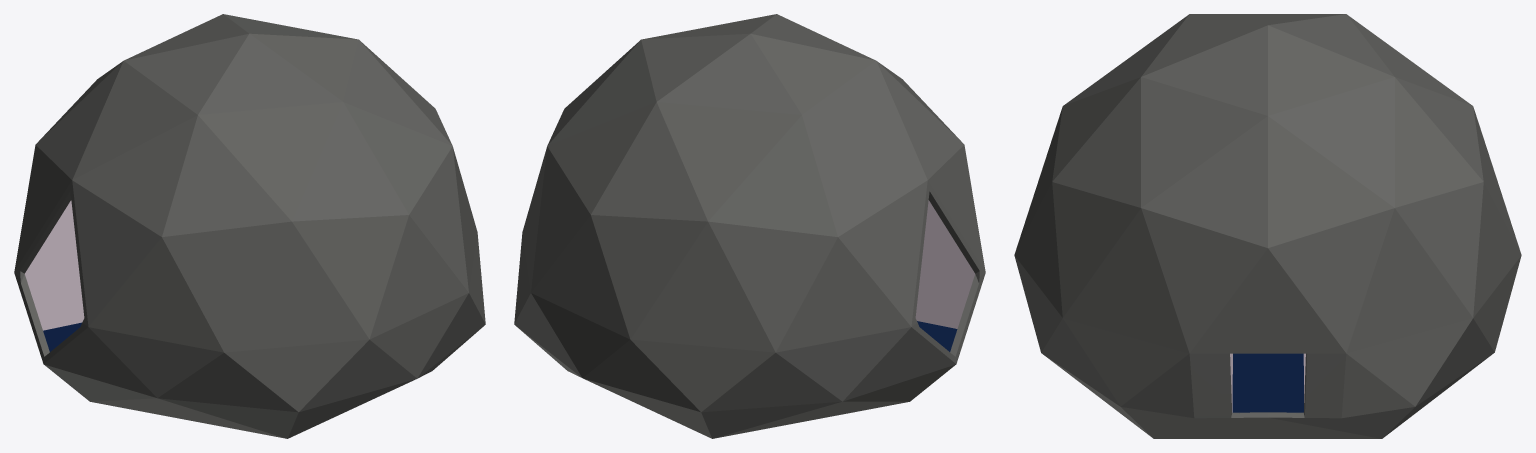
The model's file is NAVEFIANLAOAVR.fbx.
3 renders of one model, left to right at view 1: azimuth 30°, elevation 25°; view 2: azimuth 150°, elevation 25°; view 3: azimuth 270°, elevation 25°, orthographic. The views are drawn at different scales.
Visible parts, largest first — view 1: Nave; view 2: Nave; view 3: Nave.
Boxes of the visible parts, x1,y1,x2,y2 form: Nave: (14,14,485,438); Nave: (514,14,985,438); Nave: (1014,14,1521,438).
Size of the model in its own units: 191 by 159 by 200.
